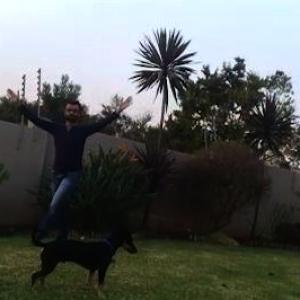takeoff: (6, 83, 125, 219)
